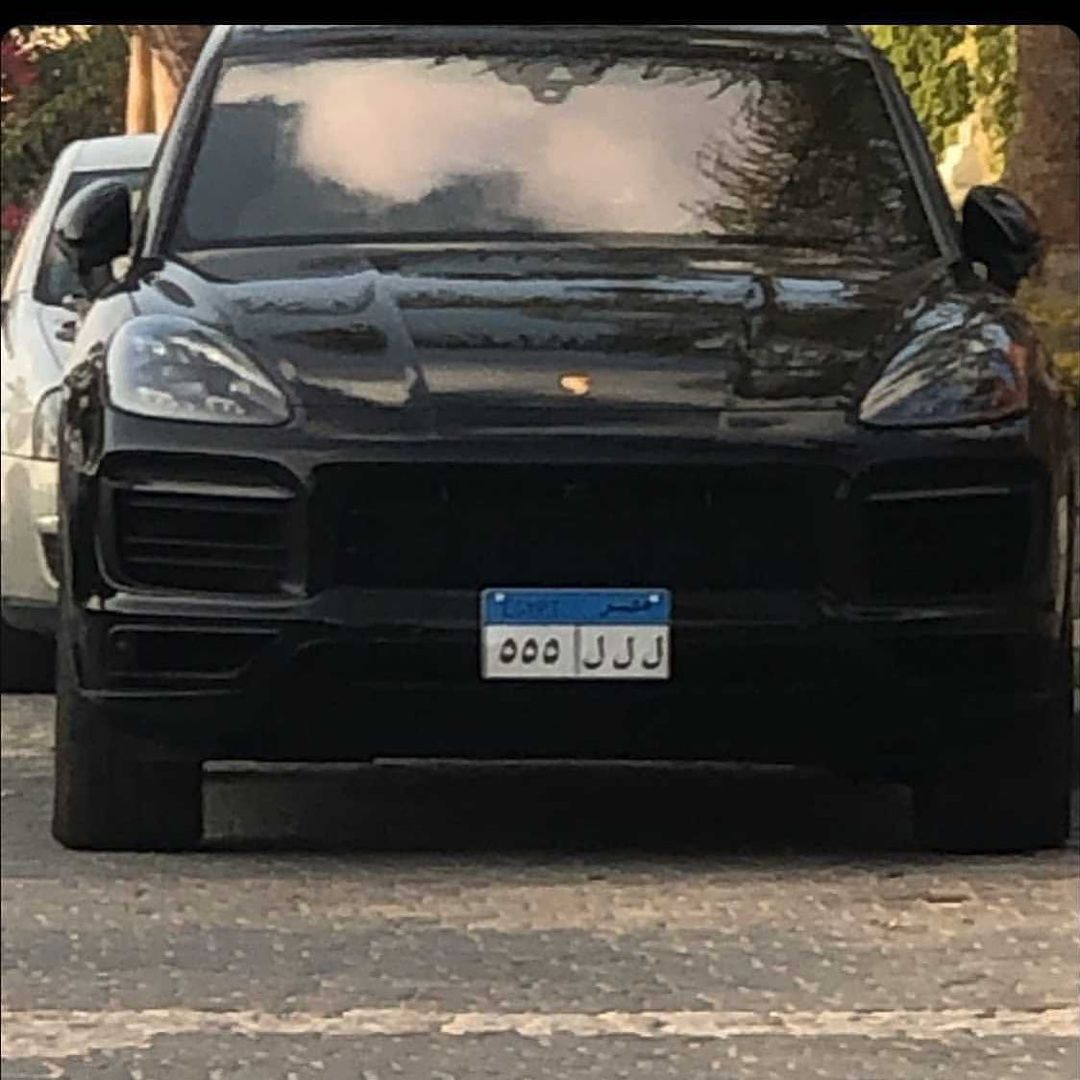carpl: (466, 565, 682, 691)
